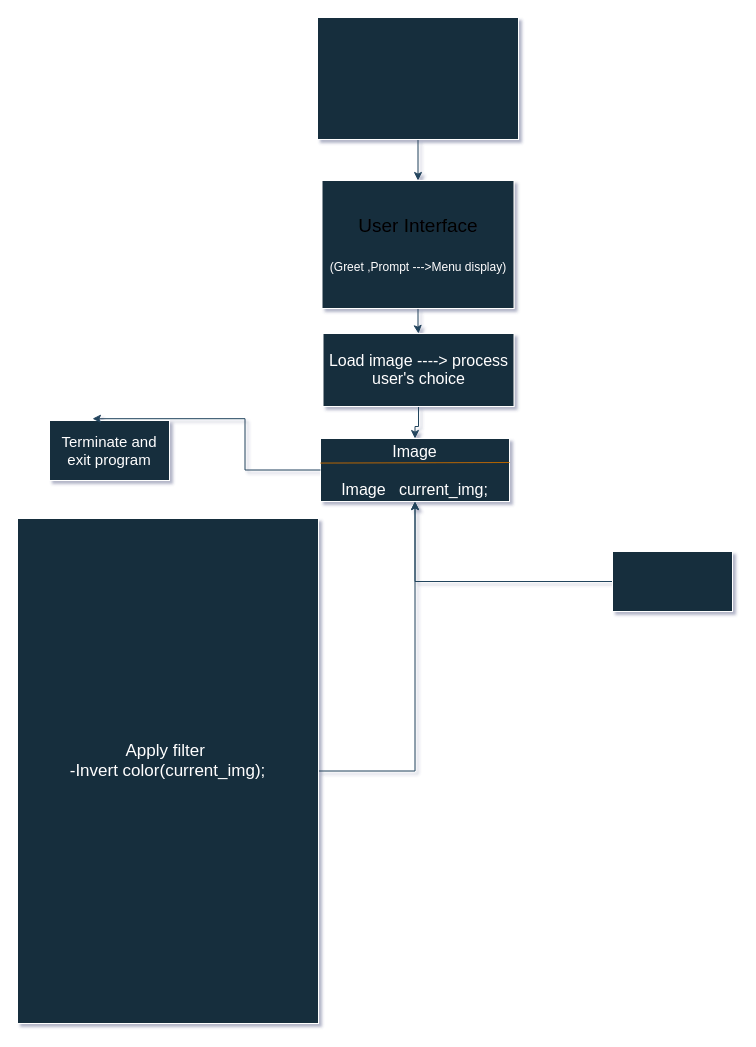
The diagram is 756 pixels wide and 1047 high, and some of its shapes have lost their labels. The centre of each missing label's shape, as x and y in pixels:
"FIle Options : - load new image - Save current image" belongs at pixel 672 581.
"Main" belongs at pixel 417 78.
